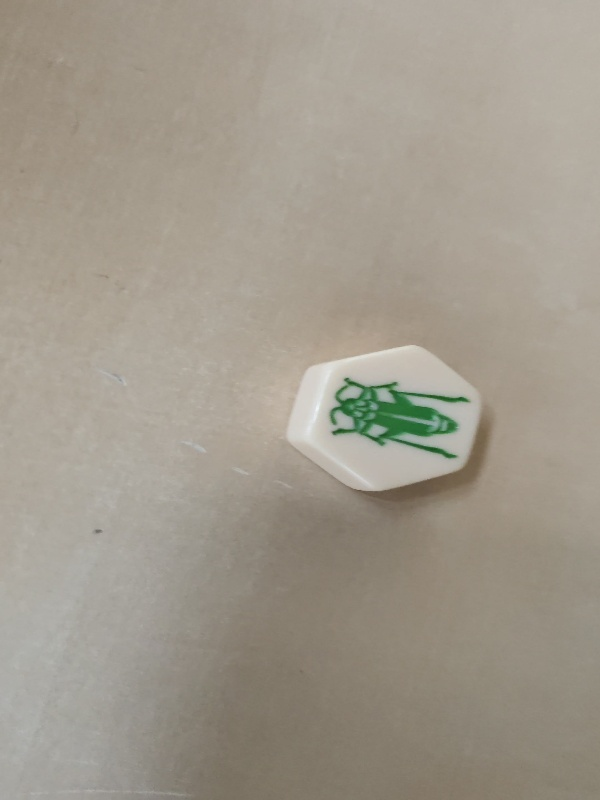white_grasshopper: (289, 348, 469, 484)
